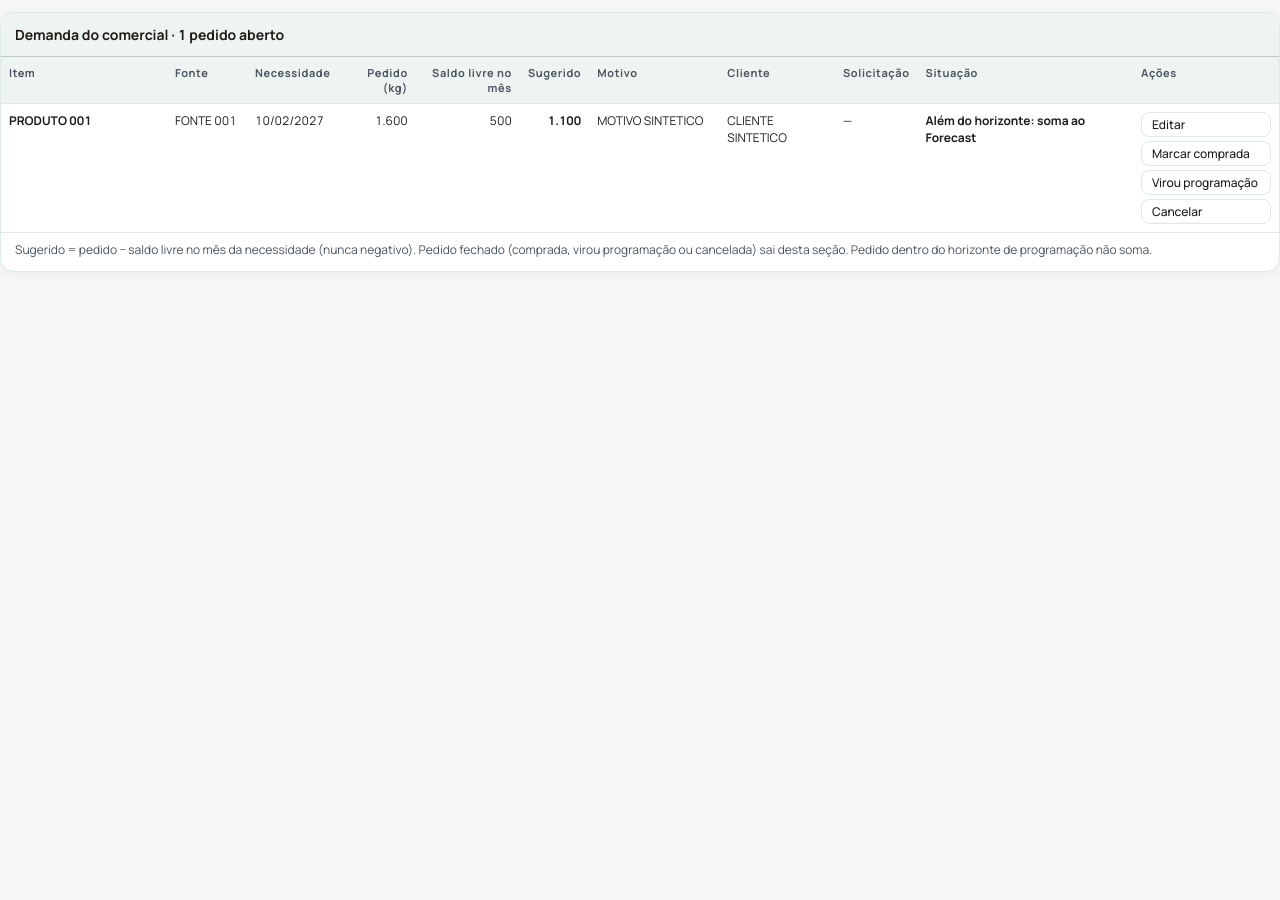
Test case: ForecastRelatorioDemandaComercial - fechar o pedido › 409 (pedido ja fechado por outra pessoa): mostra a mensagem do servidor e o dialogo continua aberto
Click the button with aria-label "Marcar comprada:" at (1206, 154), box [1141,141,1271,166]
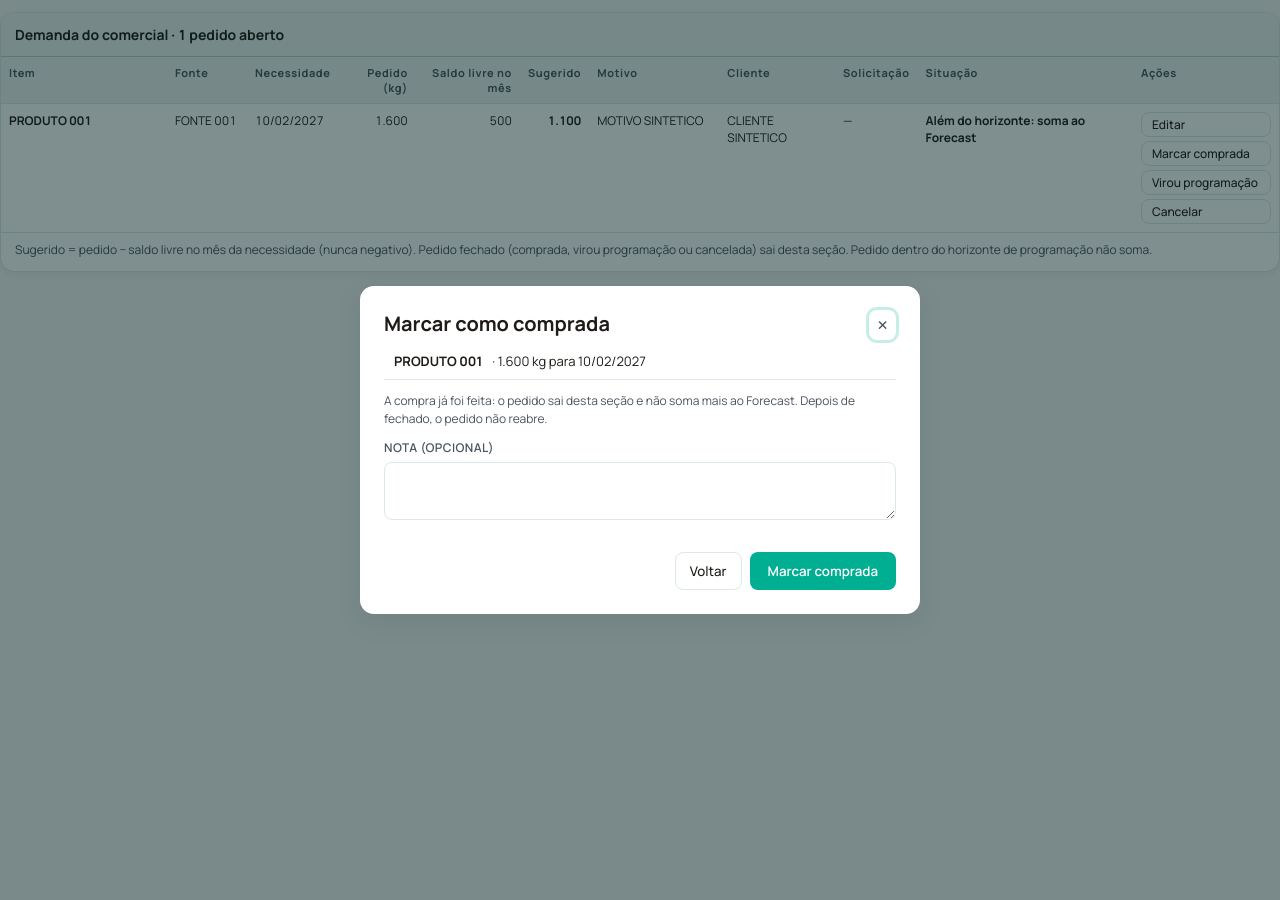
Expected: the heading "Marcar como comprada" is shown, [384,310,610,337]
Click the button "Marcar comprada" at (823, 571), box [750,552,896,590]
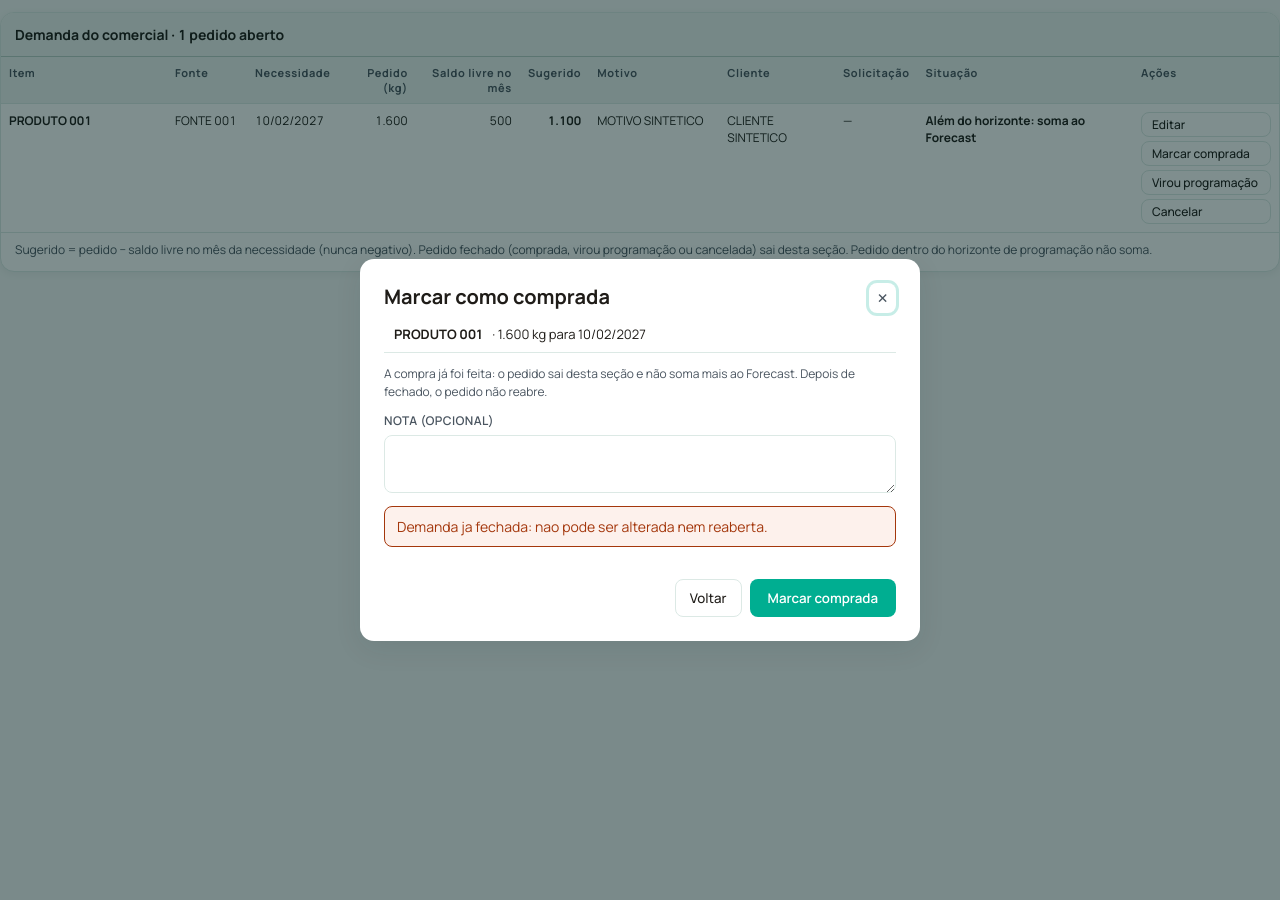
Expected: the heading "Marcar como comprada" is shown, [384,283,610,310]
Expected: the message reads "Demanda ja fechada: nao pode ser alterada nem reaberta.", [397,517,768,536]
